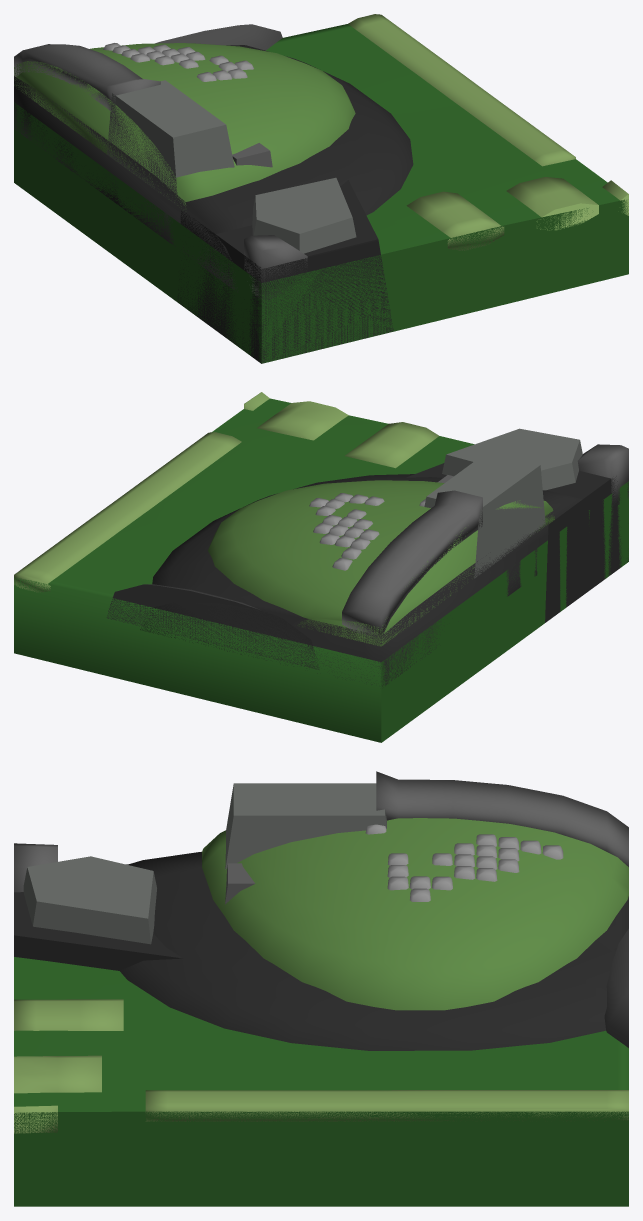
File: newshj-163-f2.glb
3 renders of one model, top to bottom at view 1: azimuth 30°, elevation 25°; view 2: azimuth 150°, elevation 25°; view 3: azimuth 270°, elevation 25°, orthographic. The views are drawn at different scales.
Visible parts, largest first — view 1: newshj-163-f2; view 2: newshj-163-f2; view 3: newshj-163-f2.
Part boxes in pixels (x1=…): newshj-163-f2: x1=14, y1=14, x2=628, y2=363; newshj-163-f2: x1=14, y1=392, x2=628, y2=742; newshj-163-f2: x1=14, y1=771, x2=628, y2=1206.
Size of the model in its own units: 2 by 0.8899 by 2.33.
